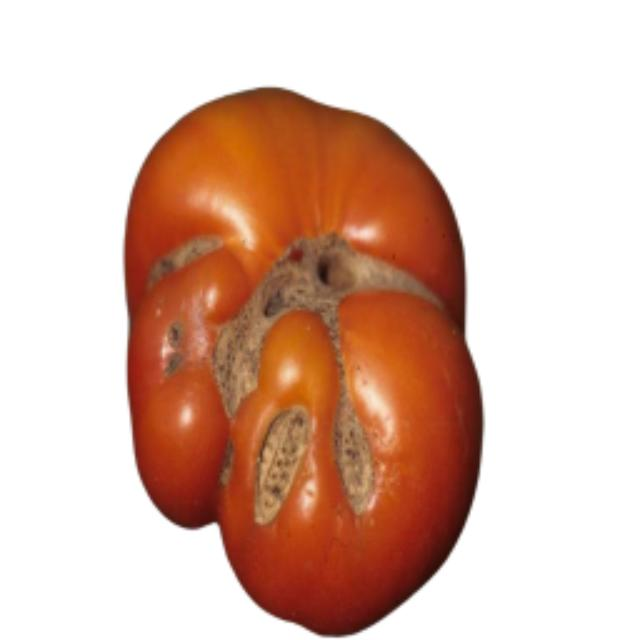defect: (113, 86, 491, 640)
